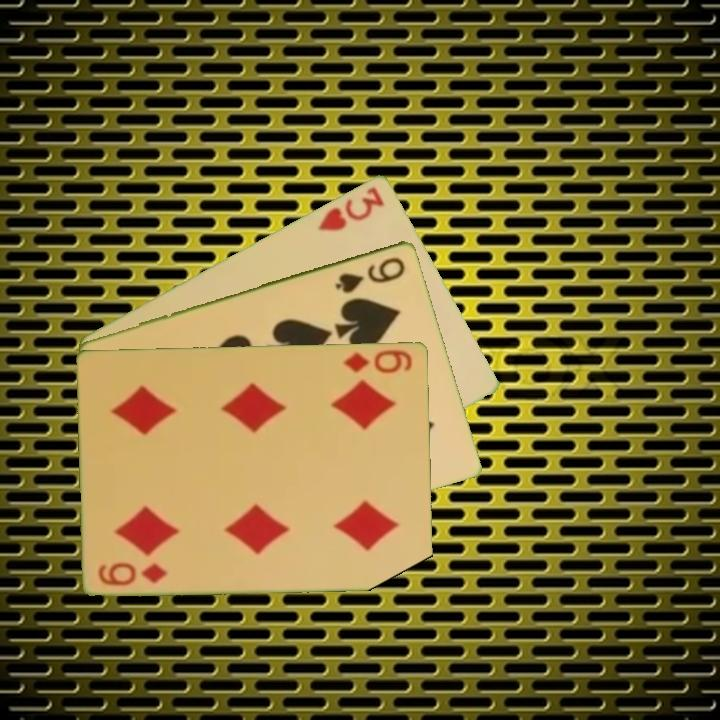3h: (313, 182, 388, 234)
6d: (340, 346, 416, 376), (95, 558, 171, 588)
9s: (332, 253, 409, 296)
